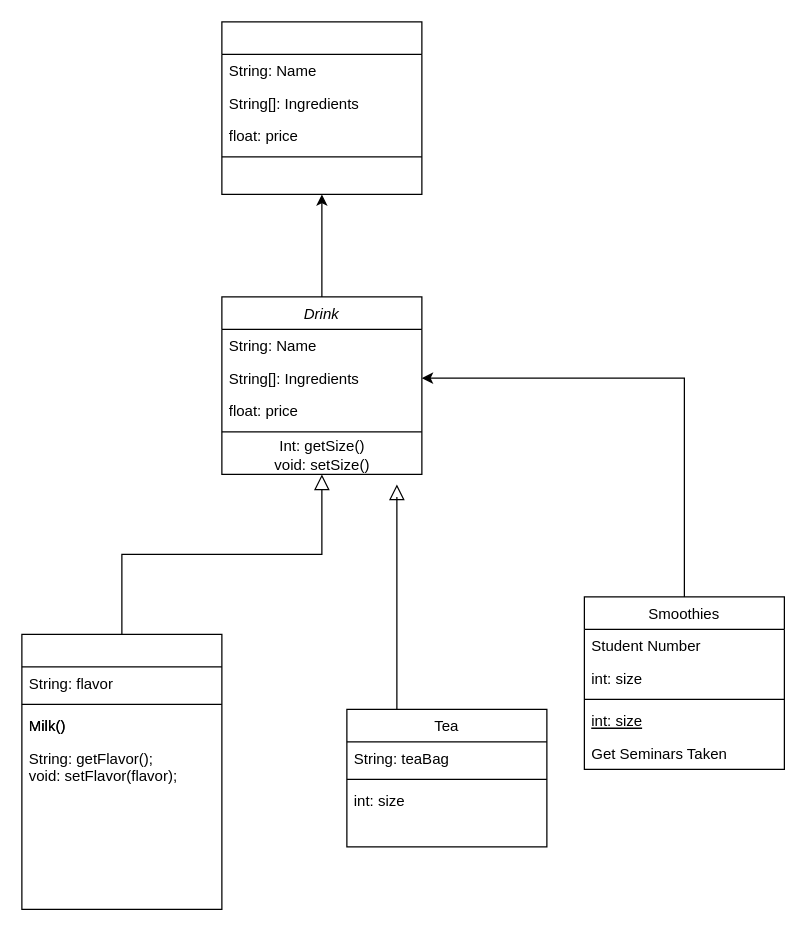
Some shapes in this 806 by 935 pixel diagram are drawn without their labels. Each missing label, with the box of its shape:
Coffee: (21, 633, 222, 909)
DrinkBuildier: (221, 21, 422, 194)
